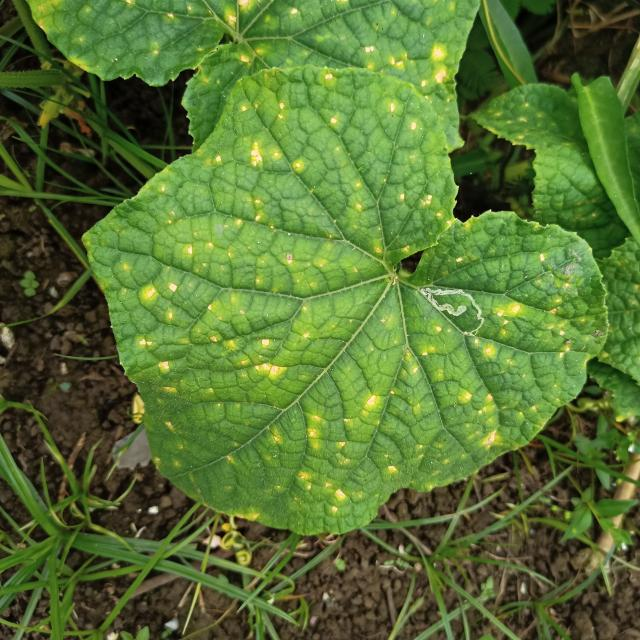disease_cucumber: (105, 82, 576, 528), (361, 23, 472, 90)
